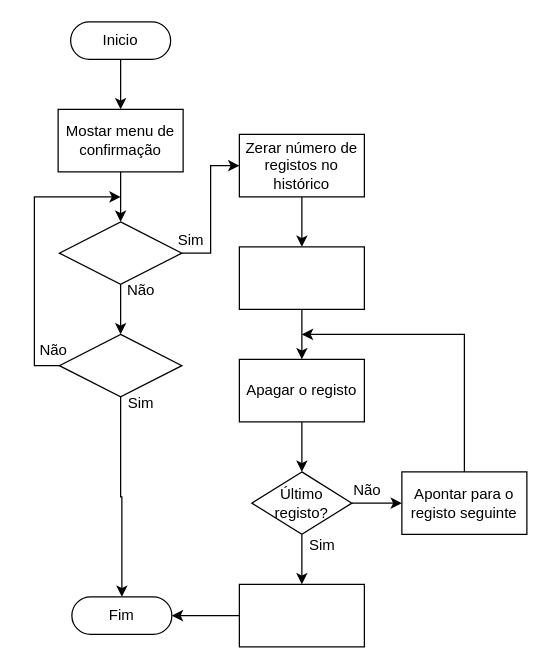
This 549x669 diagram has some shape labels left out. Each missing label, with the centre of its shape:
"Apontar para o último registo" belongs at [301,277].
"cancel = 1?" belongs at [120,365].
"ok = 1?" belongs at [120,252].
"Subrotina de mensagem de sucesso" belongs at [301,615].
